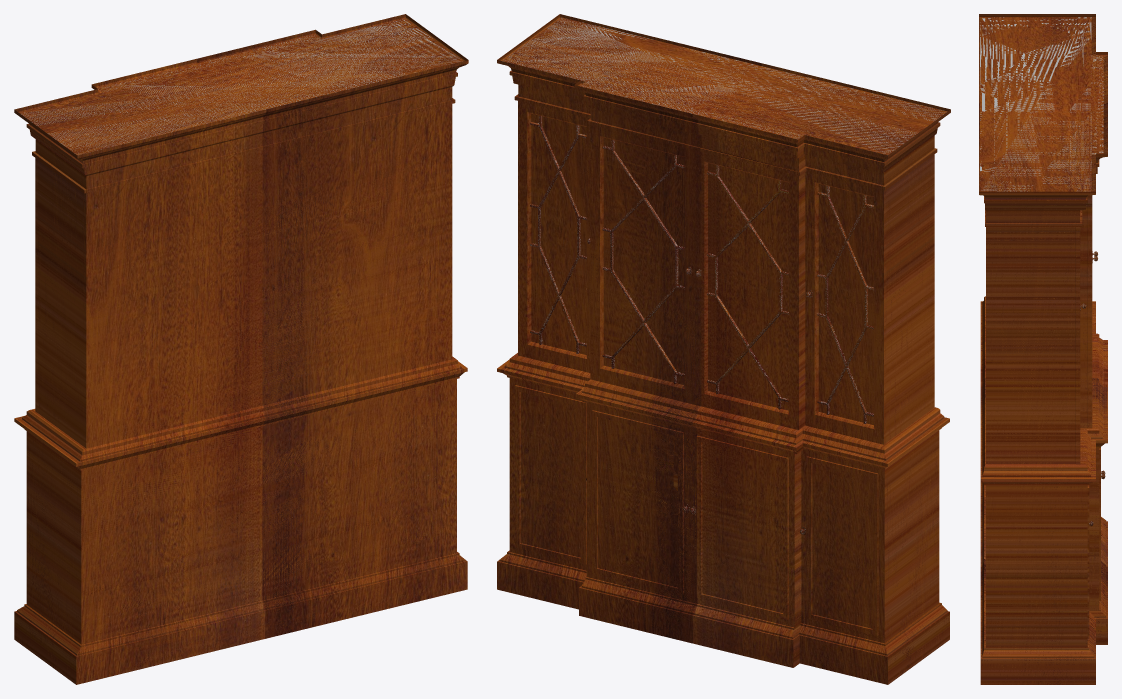
The picture shows the model from 3 angles, left to right: view 1: azimuth 30°, elevation 25°; view 2: azimuth 150°, elevation 25°; view 3: azimuth 270°, elevation 25°; orthographic projection. The views are drawn at different scales.
Visible parts, largest first — view 1: mesh1_mesh1-geometry, mesh19_mesh19-geometry, mesh18_mesh18-geometry; view 2: mesh1_mesh1-geometry, mesh19_mesh19-geometry, mesh23_mesh23-geometry, mesh22_mesh22-geometry, mesh20_mesh20-geometry, mesh21_mesh21-geometry, mesh18_mesh18-geometry; view 3: mesh1_mesh1-geometry, mesh19_mesh19-geometry, mesh18_mesh18-geometry.
Part boxes in pixels (box(x1,y1,x2,y2)): mesh1_mesh1-geometry: box(14, 14, 468, 684); mesh19_mesh19-geometry: box(19, 19, 463, 155); mesh18_mesh18-geometry: box(97, 34, 321, 92); mesh1_mesh1-geometry: box(497, 14, 950, 684); mesh19_mesh19-geometry: box(502, 17, 947, 155); mesh23_mesh23-geometry: box(602, 139, 684, 383); mesh22_mesh22-geometry: box(707, 165, 788, 409); mesh20_mesh20-geometry: box(817, 186, 873, 423); mesh21_mesh21-geometry: box(530, 115, 586, 353); mesh18_mesh18-geometry: box(579, 82, 803, 139); mesh1_mesh1-geometry: box(979, 14, 1107, 684); mesh19_mesh19-geometry: box(980, 17, 1091, 191); mesh18_mesh18-geometry: box(1091, 55, 1103, 154).
Size of the model in its own units: 0.6009 by 0.7778 by 0.1842.
